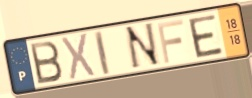B: (27, 39, 64, 86)
E: (186, 12, 225, 60)
F: (156, 17, 186, 65)
I: (92, 29, 112, 77)
N: (123, 20, 163, 72)
X: (60, 31, 97, 82)
